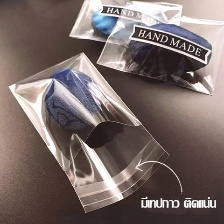snack: (5, 48, 173, 217), (91, 0, 224, 99), (64, 0, 188, 55)
